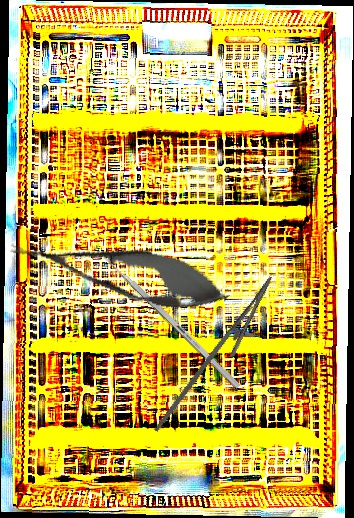Micro Scissor: (2, 221, 236, 323)
Needle Holder: (153, 264, 286, 451)
Pusher: (90, 243, 242, 390)
